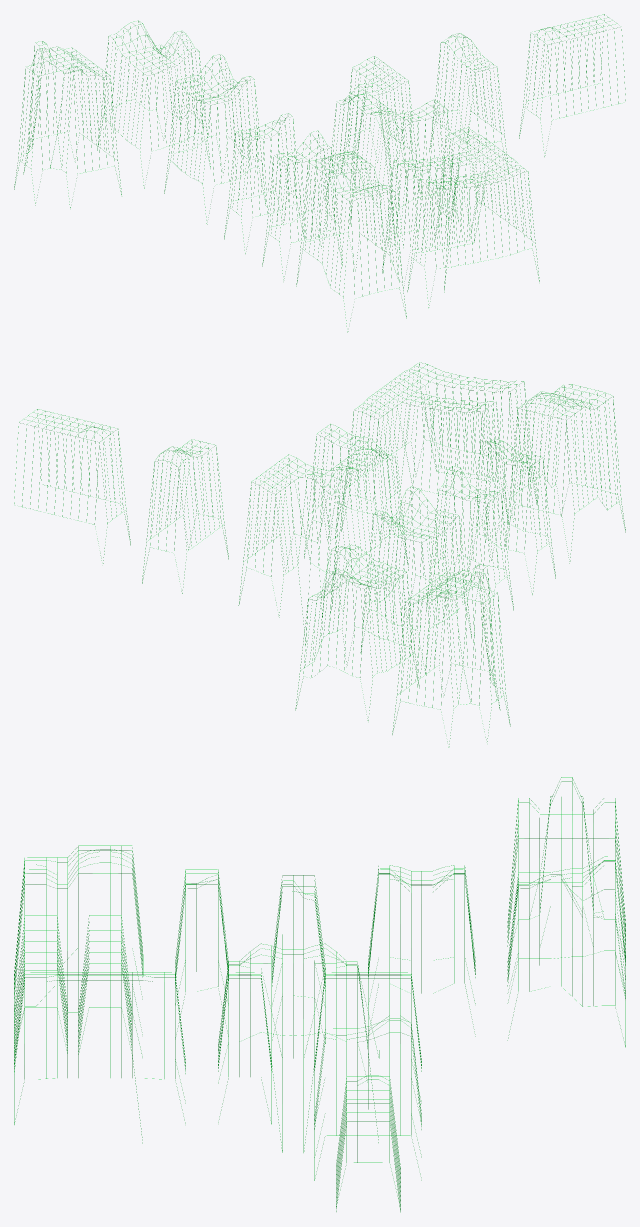
The picture shows the model from 3 angles, top to bottom: view 1: azimuth 30°, elevation 25°; view 2: azimuth 150°, elevation 25°; view 3: azimuth 270°, elevation 25°; orthographic projection. The views are drawn at different scales.
Parts seen in each view (by area): view 1: Plane_006; view 2: Plane_006; view 3: Plane_006.
Boxes of the visible parts, x1,y1,x2,y2 form: Plane_006: (14,14,625,332); Plane_006: (14,362,625,747); Plane_006: (14,777,625,1212).
Bounding box in the file's own units: 828 × 684 × 275.
